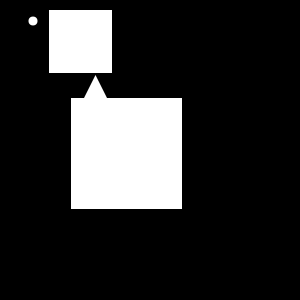circle: (71, 98, 182, 209), (49, 10, 112, 73)
rectangle: (28, 17, 38, 26)
triangle: (75, 75, 116, 116)
